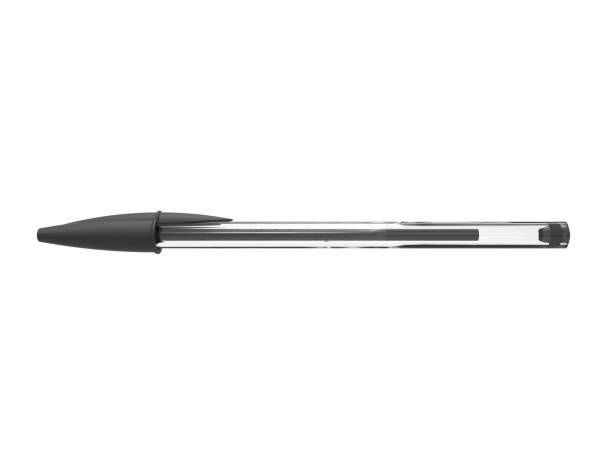pen: (27, 205, 589, 274)
